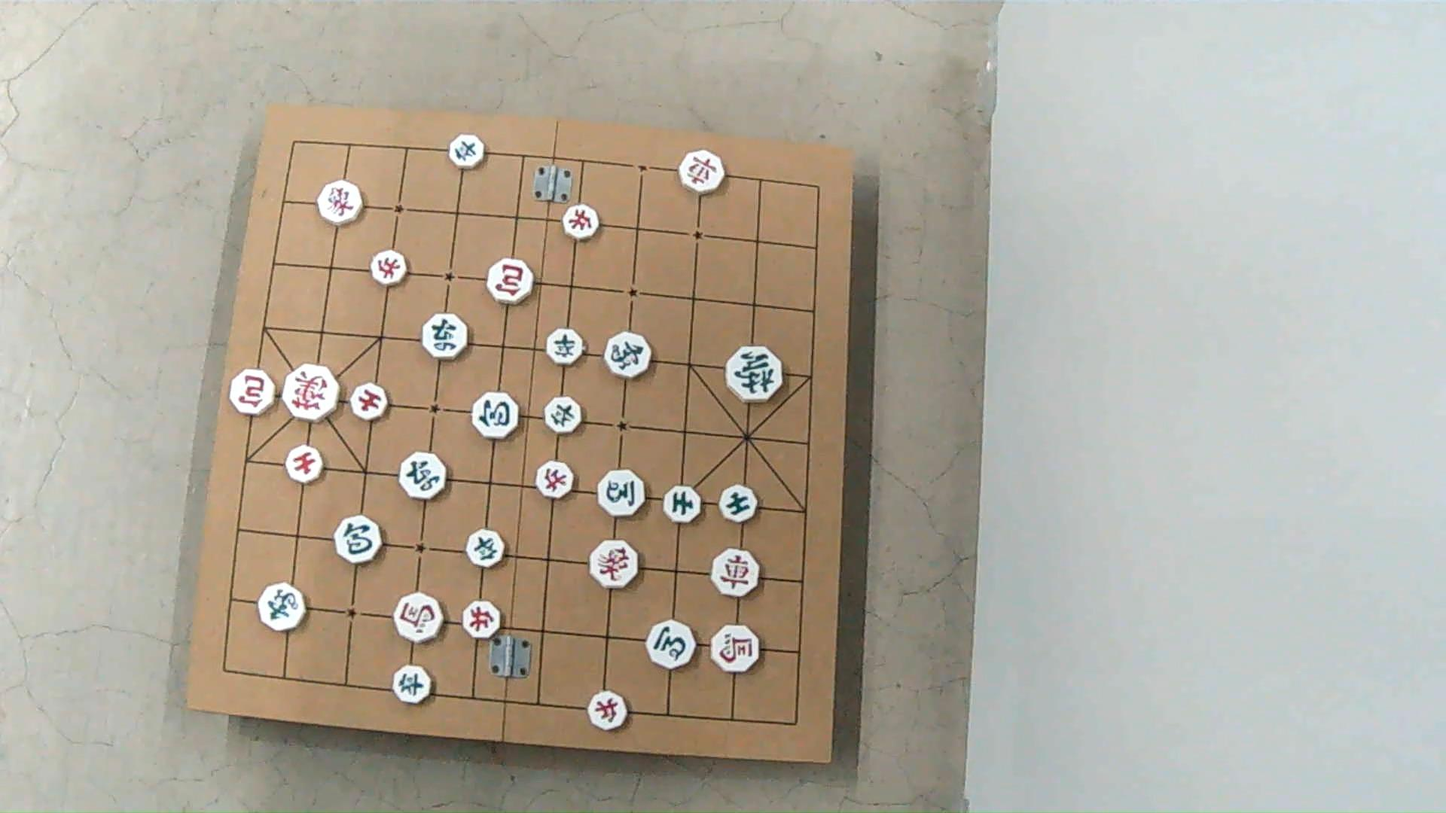cha_green: (398, 452, 444, 500), (424, 314, 470, 359)
cha_red: (712, 550, 758, 598), (681, 152, 726, 196)
jol_green: (392, 666, 432, 705), (467, 530, 505, 568), (544, 330, 582, 366), (545, 399, 581, 437), (449, 134, 485, 168)
jol_red: (462, 602, 502, 641), (590, 690, 629, 729), (535, 460, 572, 498), (368, 253, 404, 288), (564, 206, 599, 241)
ma_green: (644, 620, 694, 668), (597, 469, 645, 516)
ma_red: (393, 592, 442, 642), (710, 627, 758, 674)
po_green: (338, 516, 385, 563), (471, 392, 517, 440)
po_red: (230, 370, 275, 417), (487, 260, 532, 305)
sa_green: (718, 485, 756, 522), (666, 486, 703, 522)
sa_red: (288, 445, 325, 482), (352, 385, 388, 421)
sang_green: (261, 582, 309, 630), (607, 334, 652, 380)
sang_red: (590, 540, 639, 588), (319, 181, 362, 225)
wang_green: (725, 346, 781, 402)
wang_red: (282, 366, 340, 422)
